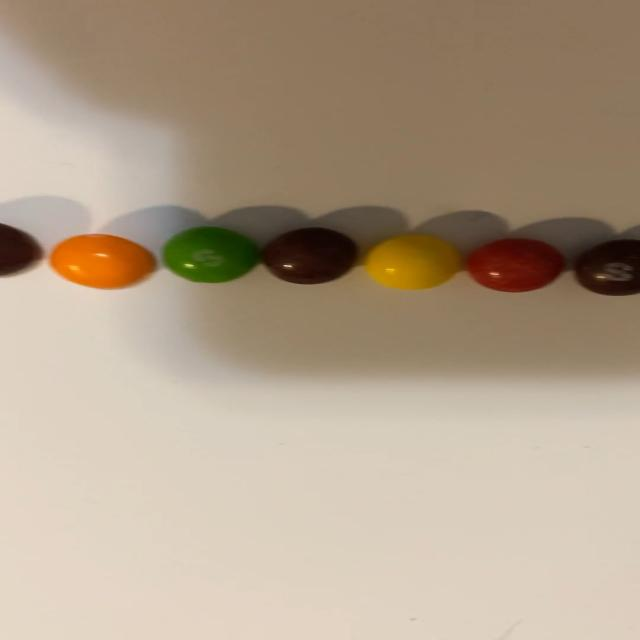smartie: (48, 234, 155, 289), (260, 227, 356, 284), (162, 226, 259, 282), (364, 234, 461, 289), (468, 238, 565, 292), (575, 239, 640, 296)
